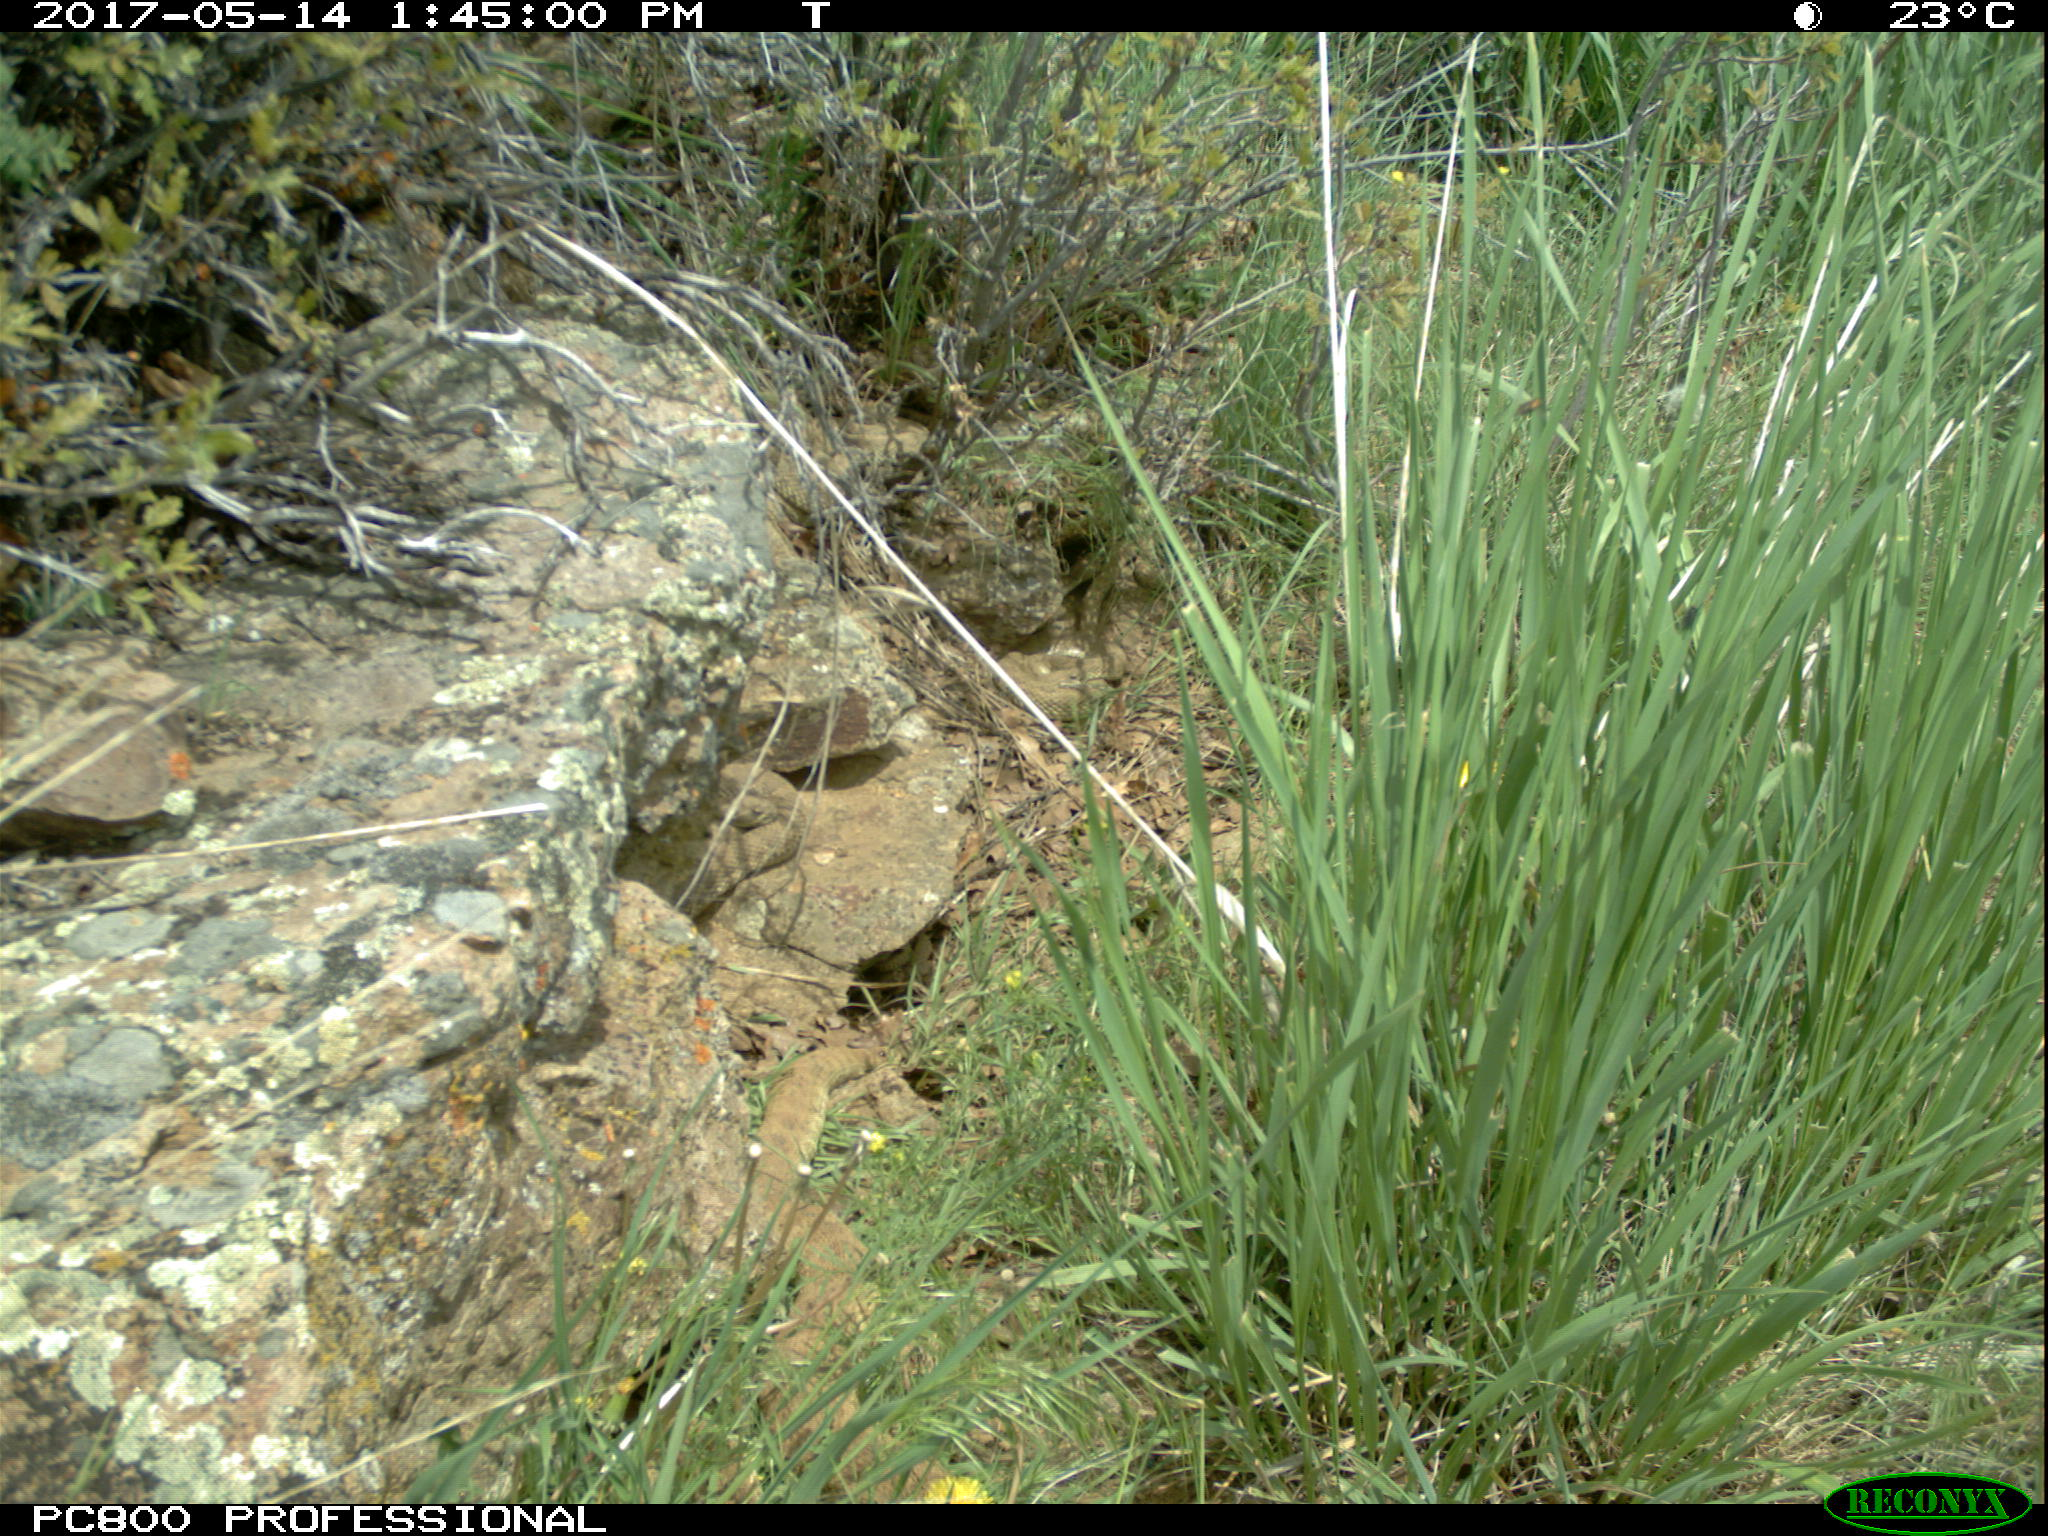snake: (743, 1046, 880, 1376), (648, 763, 808, 916), (992, 639, 1134, 718)
